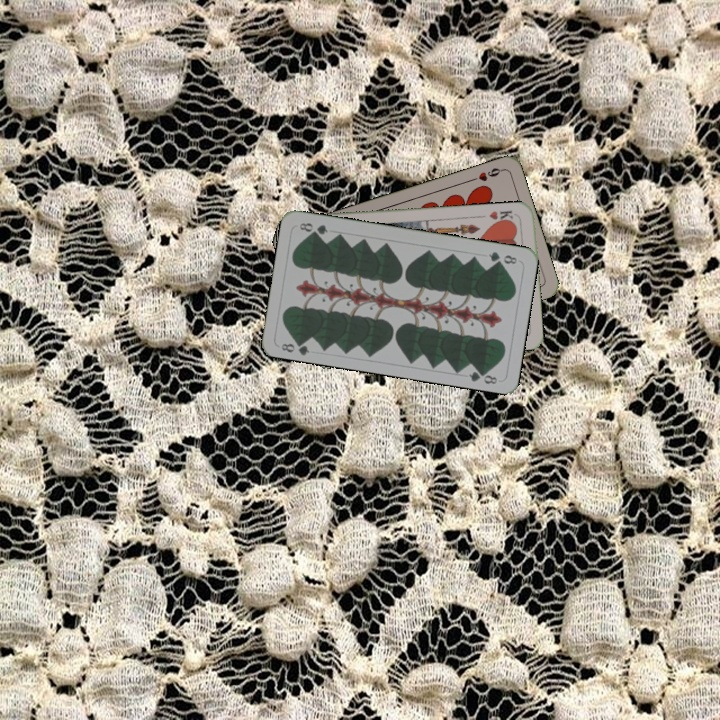G8: (277, 335, 312, 357), (485, 247, 520, 267)
H9: (466, 164, 506, 184)
HK: (486, 207, 520, 226)
